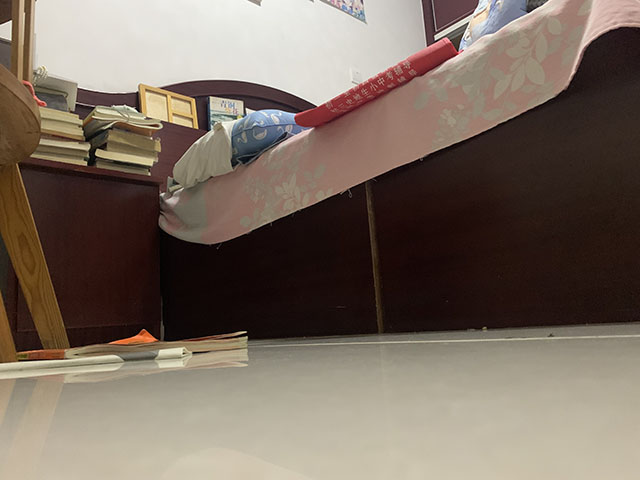bed: (71, 1, 640, 345)
book: (15, 328, 251, 361)
cabinet: (1, 156, 164, 354)
